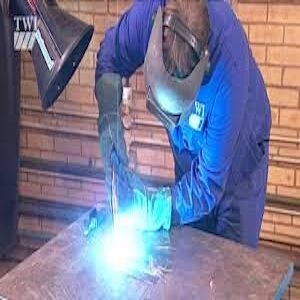heat: (96, 198, 153, 273)
